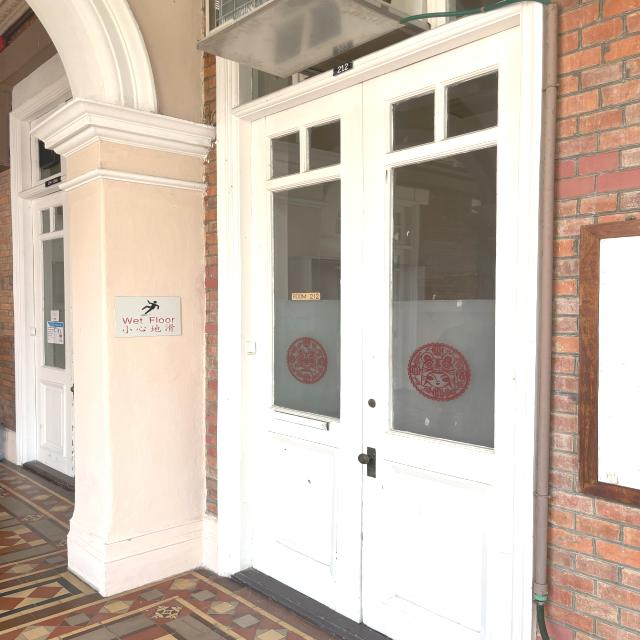MB212_cardboard: (330, 58, 357, 78), (289, 291, 323, 302)
